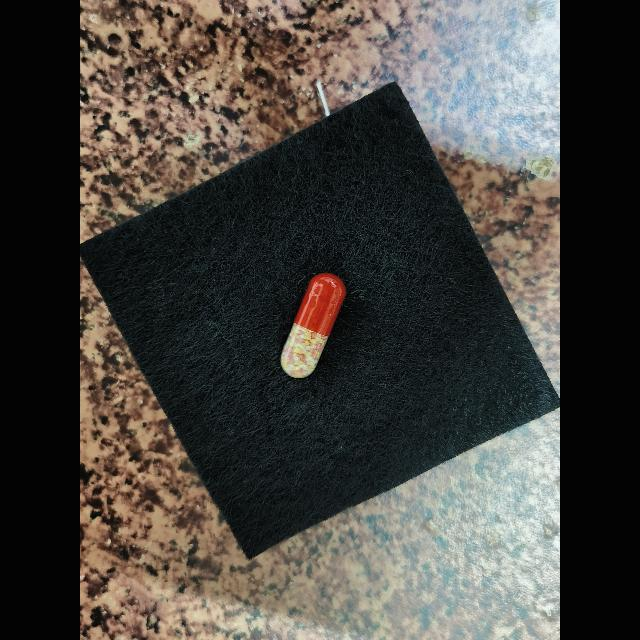Intact Capsule: (281, 273, 346, 378)
